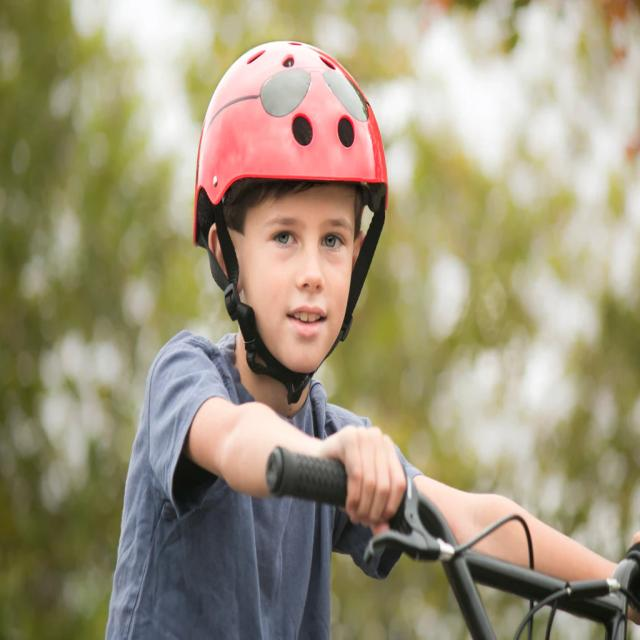Helmet: (191, 39, 389, 378)
